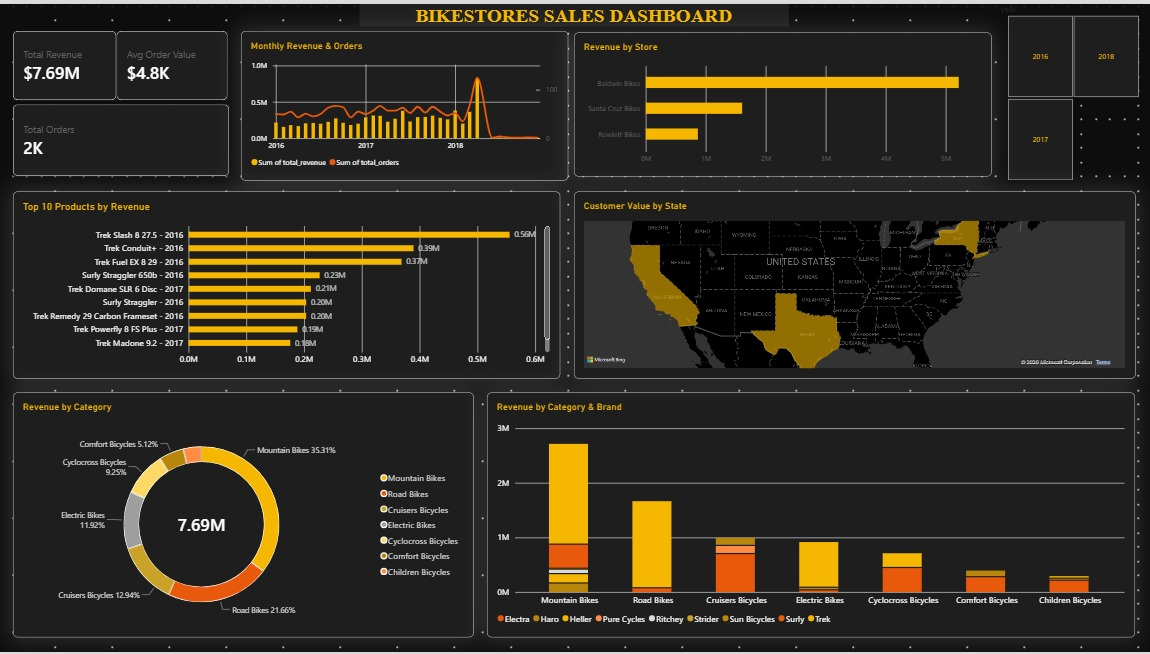

The page's visual inventory and layout, read from the dashboard file:
{"tool":"powerbi","page":{"name":"Page 1","canvas":[1920,1080],"ordinal":0},"visuals":[{"type":"textbox","box":[602.5,0,715,37.5],"z":0},{"type":"cardVisual","fields":{"Data":["daily_sales.Total Revenue"]},"box":[25.5,45.1,172.5,115.7],"z":1000},{"type":"slicer","fields":{"Values":["monthly_sales.year"]},"box":[1662.5,0,257.5,295],"z":2000},{"type":"cardVisual","fields":{"Data":["daily_sales.Total Orders"]},"box":[24,168,360,120],"z":3000},{"type":"cardVisual","fields":{"Data":["daily_sales.Avg Order Value"]},"box":[198,45.1,185,115],"z":4000},{"type":"lineStackedColumnComboChart","title":"Monthly Revenue & Orders","fields":{"Category":["monthly_sales.Month Date"],"Y":["Sum(monthly_sales.total_revenue)"],"Y2":["Sum(monthly_sales.total_orders)"]},"box":[405.9,45.1,545.4,249.1],"z":5000},{"type":"clusteredBarChart","title":"Top 10 Products by Revenue","fields":{"Category":["top_products.product_name"],"Y":["Sum(top_products.total_revenue)"]},"box":[24,312,912,312],"z":6000},{"type":"donutChart","title":"Revenue by Category","fields":{"Category":["top_products.category_name"],"Y":["Sum(top_products.total_revenue)"]},"box":[24,648,768,408],"z":7000},{"type":"columnChart","title":"Revenue by Category & Brand","fields":{"Category":["top_products.category_name"],"Series":["top_products.brand_name"],"Y":["Sum(top_products.total_revenue)"]},"box":[816,648,1080,408],"z":8000},{"type":"clusteredBarChart","title":"Revenue by Store","fields":{"Category":["store_sales.store_name"],"Y":["Sum(store_sales.total_revenue)"]},"box":[960,48,696,240],"z":9000},{"type":"filledMap","title":"Customer Value by State","fields":{"Category":["customer_lifetime_value.state"]},"box":[960,312,936,312],"z":9001}]}

Visuals, with their boxes in screenshot pixels (x1, y1, x2, y2), scaled from the page's 1920x1080 canvas onto the 1150x654 screenshot:
textbox: region(361, 0, 789, 23)
cardVisual - daily_sales.Total Revenue: region(15, 27, 119, 97)
slicer - monthly_sales.year: region(996, 0, 1149, 179)
cardVisual - daily_sales.Total Orders: region(14, 102, 230, 174)
cardVisual - daily_sales.Avg Order Value: region(119, 27, 229, 97)
"Monthly Revenue & Orders" lineStackedColumnComboChart: region(243, 27, 570, 178)
"Top 10 Products by Revenue" clusteredBarChart: region(14, 189, 561, 378)
"Revenue by Category" donutChart: region(14, 392, 474, 639)
"Revenue by Category & Brand" columnChart: region(489, 392, 1136, 639)
"Revenue by Store" clusteredBarChart: region(575, 29, 992, 174)
"Customer Value by State" filledMap: region(575, 189, 1136, 378)
